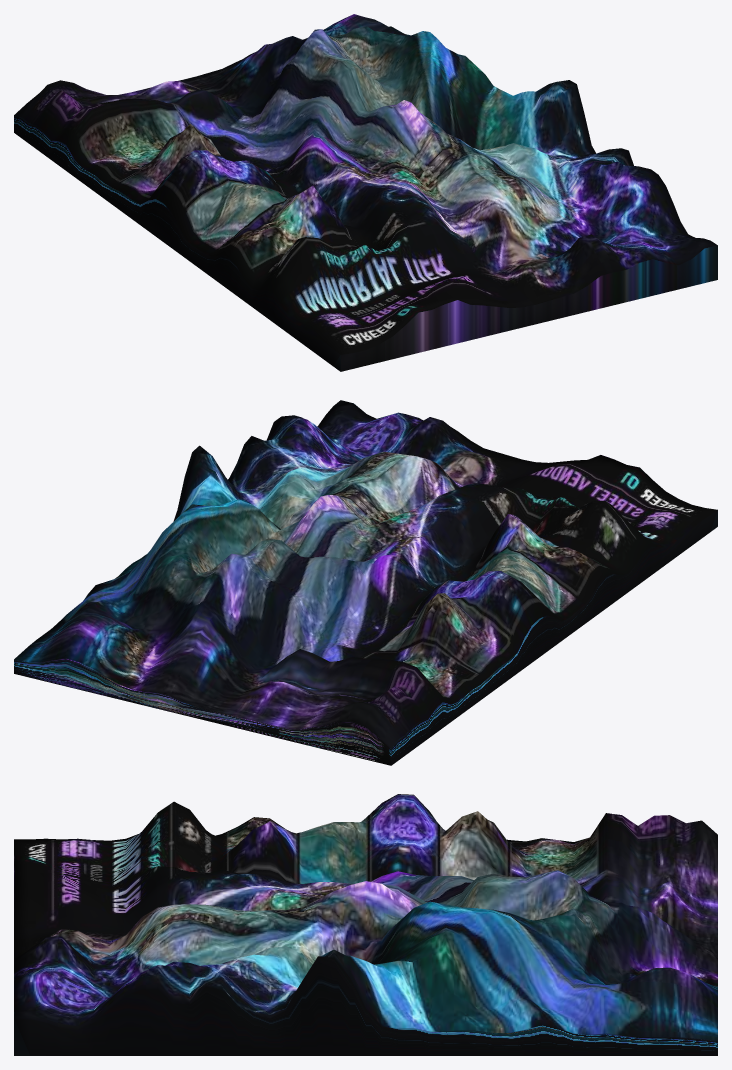
Rendered from CAREER_01_Outfit_06_Immortal.glb.
3 views of the same model, one above another, from view 1: azimuth 30°, elevation 25°; view 2: azimuth 150°, elevation 25°; view 3: azimuth 270°, elevation 25° (orthographic). The views are drawn at different scales.
Parts seen in each view (by area): view 1: CAREER_01_Outfit_06_Immortal; view 2: CAREER_01_Outfit_06_Immortal; view 3: CAREER_01_Outfit_06_Immortal.
Boxes of the visible parts, box(x1,y1,x2,y2) form: CAREER_01_Outfit_06_Immortal: box(14, 14, 717, 371); CAREER_01_Outfit_06_Immortal: box(14, 400, 717, 765); CAREER_01_Outfit_06_Immortal: box(14, 794, 717, 1055).
Size of the model in its own units: 2 by 0.51 by 3.
1 material, 1 textured.
